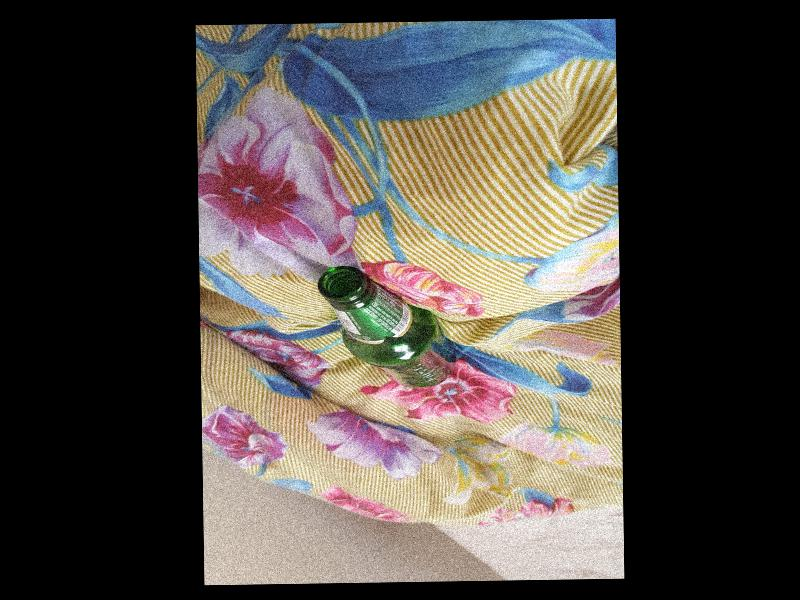Beer: (316, 262, 456, 389)
